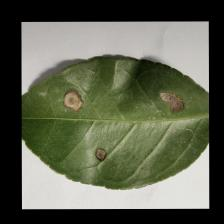canker: (57, 75, 191, 172)
